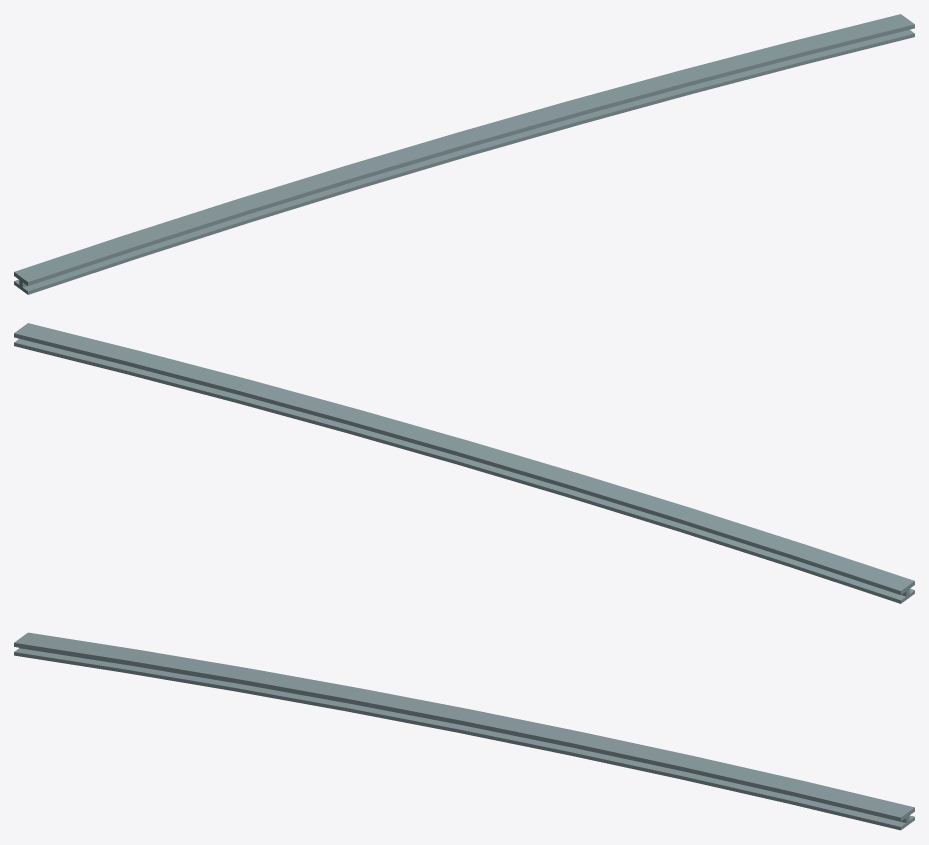
The model's file is RoadPlan_RampStructure_2L_Rise8p4_L110_UpperVerticalCurve_Girder_1.glb.
The picture shows the model from 3 angles, top to bottom: view 1: azimuth 30°, elevation 25°; view 2: azimuth 150°, elevation 25°; view 3: azimuth 330°, elevation 25°; orthographic projection.
Parts seen in each view (by area): view 1: RoadPlan_RampStructure_2L_Rise8p4_L110_UpperVerticalCurve_Gi; view 2: RoadPlan_RampStructure_2L_Rise8p4_L110_UpperVerticalCurve_Gi; view 3: RoadPlan_RampStructure_2L_Rise8p4_L110_UpperVerticalCurve_Gi.
Boxes of the visible parts, left/top/right/bottom form: RoadPlan_RampStructure_2L_Rise8p4_L110_UpperVerticalCurve_Gi: left=14, top=14, right=914, bottom=294; RoadPlan_RampStructure_2L_Rise8p4_L110_UpperVerticalCurve_Gi: left=14, top=323, right=914, bottom=603; RoadPlan_RampStructure_2L_Rise8p4_L110_UpperVerticalCurve_Gi: left=14, top=632, right=914, bottom=830.
Bounding box in the file's own units: 16 × 0.9349 × 0.44.
